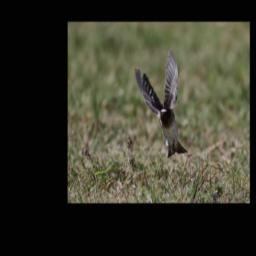Swallow: (135, 49, 188, 158)
